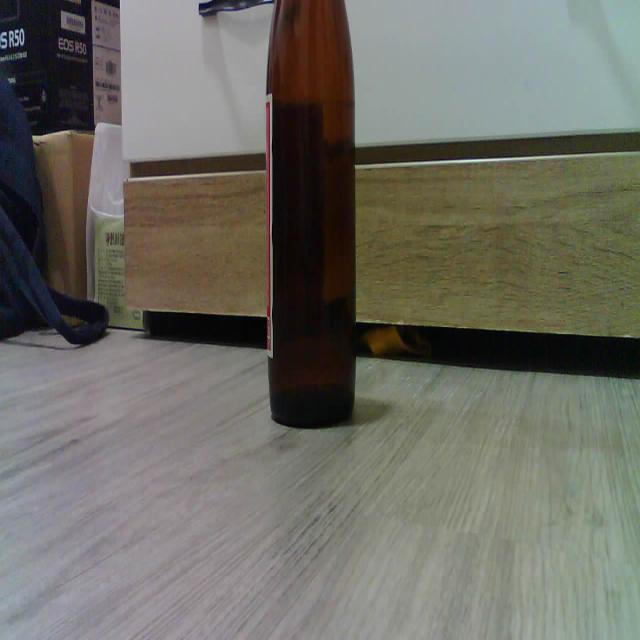bottle: (266, 0, 356, 426)
